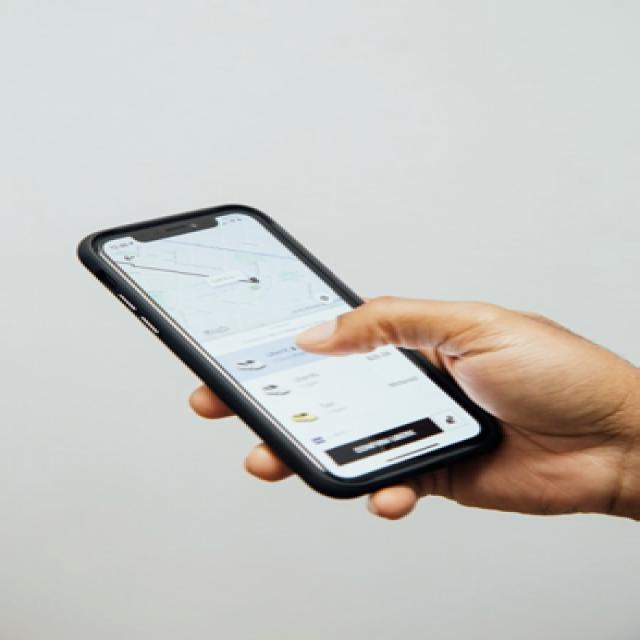cellphone: (74, 202, 501, 499)
